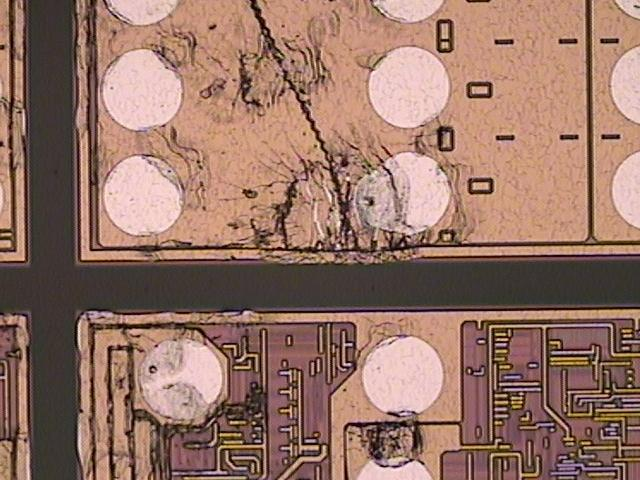SCRATCH: (1, 1, 480, 480)
